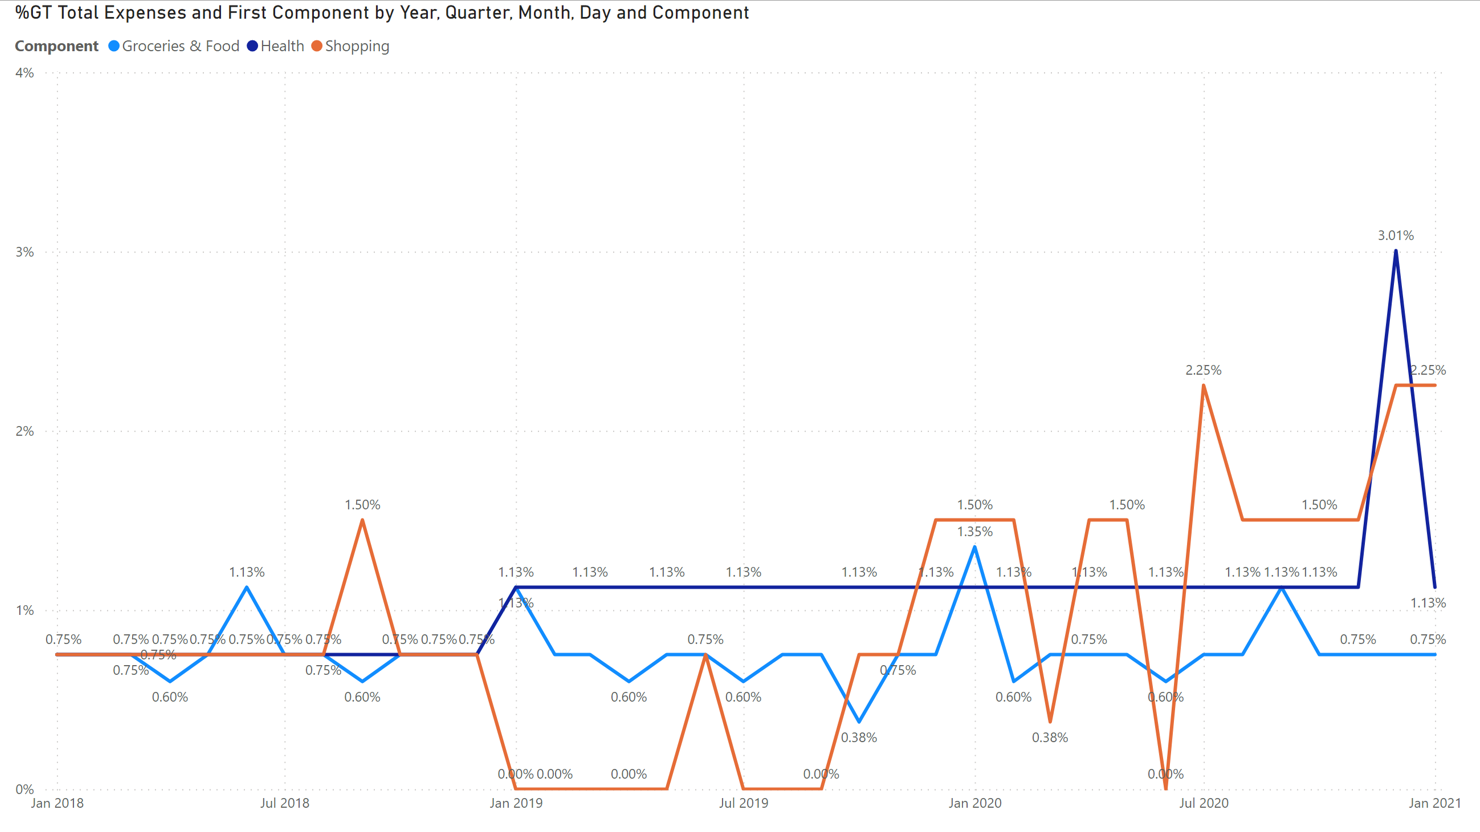

The page's visual inventory and layout, read from the dashboard file:
{"tool":"powerbi","page":{"name":"TT1","canvas":[1280,720],"ordinal":1},"visuals":[{"type":"lineChart","fields":{"Y":["Divide(key measures (2).Total Expenses, ScopedEval(key measures (2).Total Expenses, []))"],"Series":["MonthlyData.Component"],"Category":["MonthlyData.Date.Variation.Date Hierarchy.Year","MonthlyData.Date.Variation.Date Hierarchy.Quarter","MonthlyData.Date.Variation.Date Hierarchy.Month","MonthlyData.Date.Variation.Date Hierarchy.Day"]},"box":[0,0,1280,720.6],"z":0}]}

Visuals, with their boxes in screenshot pixels (x1, y1, x2, y2), scaled from the page's 1280x720 canvas onto the 1480x832 screenshot:
lineChart - Divide(key measures (2).Total Expenses, ScopedEval(key measures (2).Total Expenses, [])) x MonthlyData.Component: Rect(0, 0, 1479, 831)
